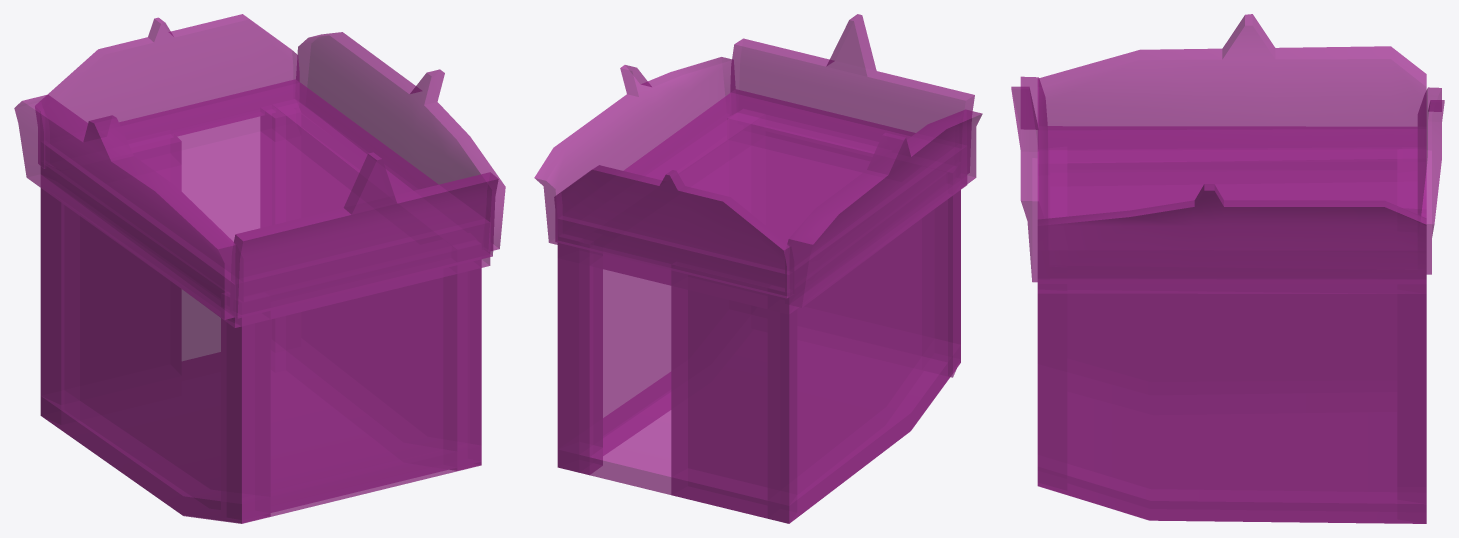
The model's file is SM_Prop_Crane_Cockpit_01_Collision.fbx.
3 renders of one model, left to right at view 1: azimuth 30°, elevation 25°; view 2: azimuth 150°, elevation 25°; view 3: azimuth 270°, elevation 25°, orthographic. The views are drawn at different scales.
Parts seen in each view (by area): view 1: SM_Prop_Crane_Cockpit_01_Collision; view 2: SM_Prop_Crane_Cockpit_01_Collision; view 3: SM_Prop_Crane_Cockpit_01_Collision.
Boxes of the visible parts, <box> form: SM_Prop_Crane_Cockpit_01_Collision: <box>14,14,505,523</box>; SM_Prop_Crane_Cockpit_01_Collision: <box>534,14,982,523</box>; SM_Prop_Crane_Cockpit_01_Collision: <box>1011,14,1444,523</box>.
Bounding box in the file's own units: 314 × 341 × 357.
